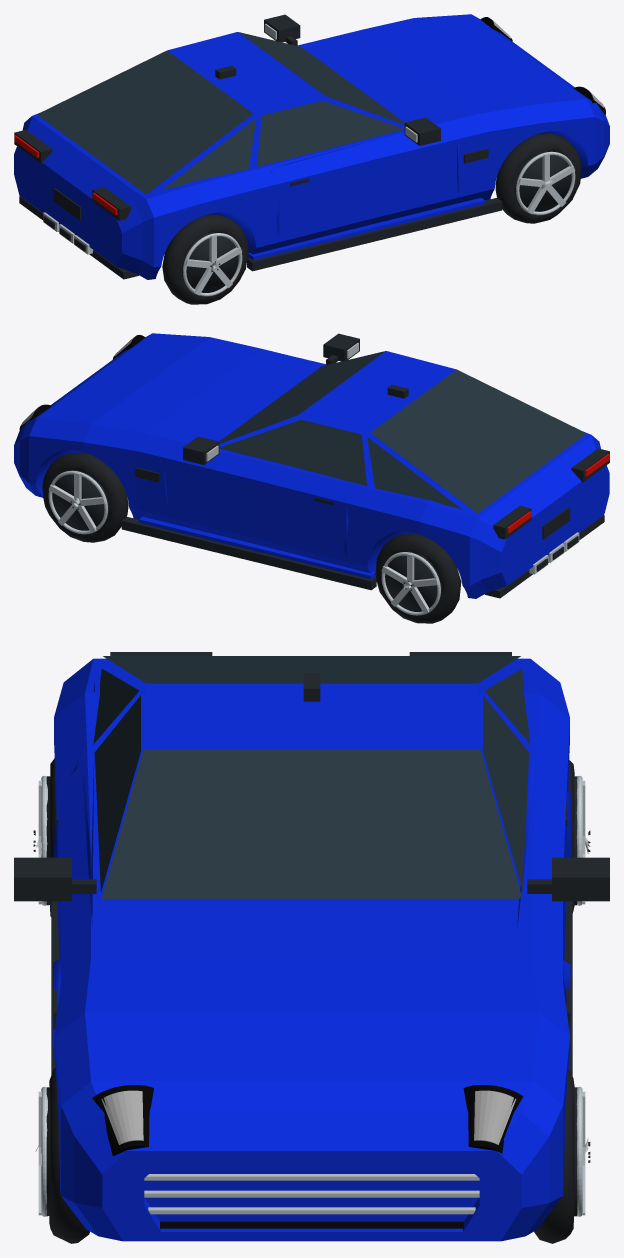
The model's file is riv2.glb.
3 views of the same model, one above another, from view 1: azimuth 30°, elevation 25°; view 2: azimuth 150°, elevation 25°; view 3: azimuth 270°, elevation 25° (orthographic). The views are drawn at different scales.
Visible parts, largest first — view 1: 跑車; view 2: 跑車; view 3: 跑車.
Boxes of the visible parts, x1,y1,x2,y2 form: 跑車: (14,14,609,304); 跑車: (14,333,609,623); 跑車: (14,652,609,1243).
Bounding box in the file's own units: 4.13 × 1.35 × 2.27.
